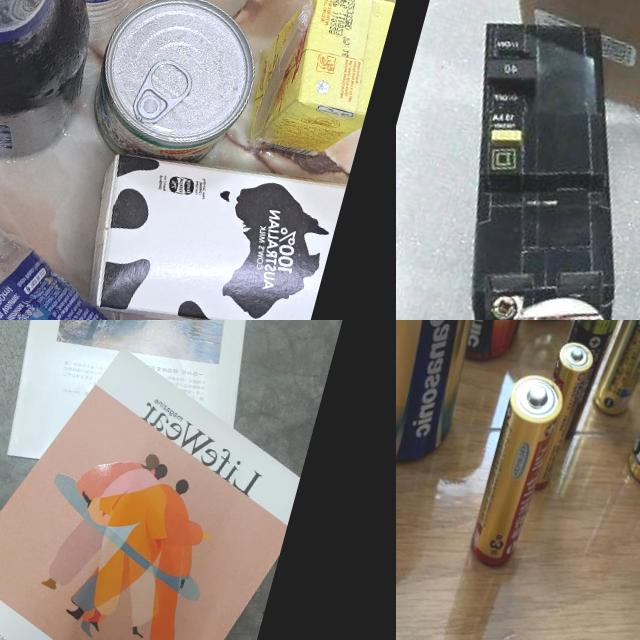aba de lata: (133, 50, 202, 132)
bateria: (460, 360, 569, 574), (396, 320, 512, 481), (516, 334, 596, 505), (536, 320, 634, 452), (413, 320, 569, 377), (587, 320, 640, 424)
caixinha: (76, 121, 348, 320), (240, 0, 396, 174)
garrafa de vidro: (0, 0, 124, 165)
garrafa plástica: (0, 106, 244, 320), (1, 0, 172, 44)
lata: (80, 0, 265, 193)
papel: (0, 320, 366, 640)
papelão: (457, 0, 640, 195)
